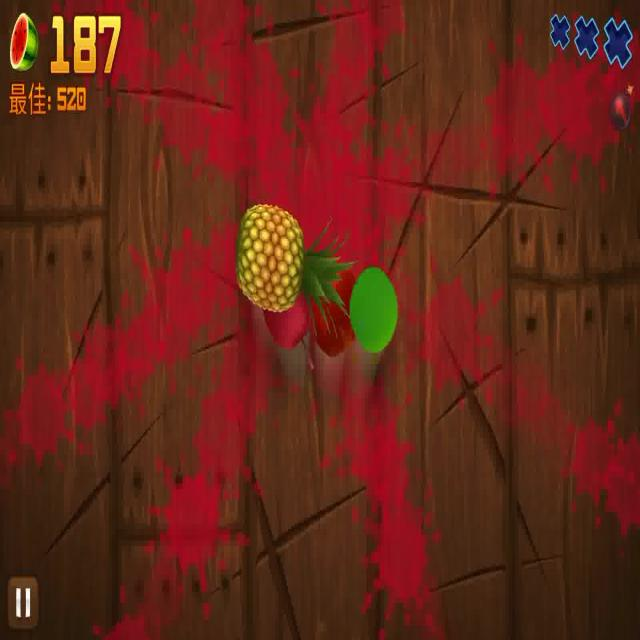fruit: (235, 204, 349, 335), (349, 265, 398, 355), (314, 278, 362, 361), (265, 289, 310, 352)
